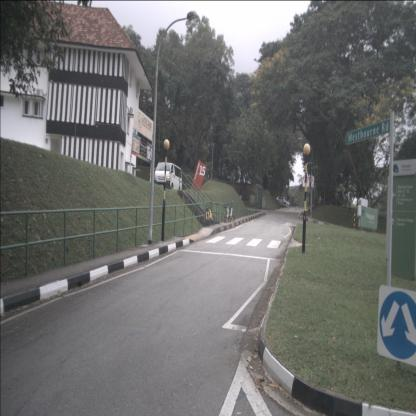human-pedestrian-adult: (294, 198, 298, 210)
vehicle-bicycle: (204, 201, 215, 227), (227, 199, 235, 222), (224, 201, 231, 223)
vehicle-car: (154, 162, 182, 191), (276, 196, 288, 206)
